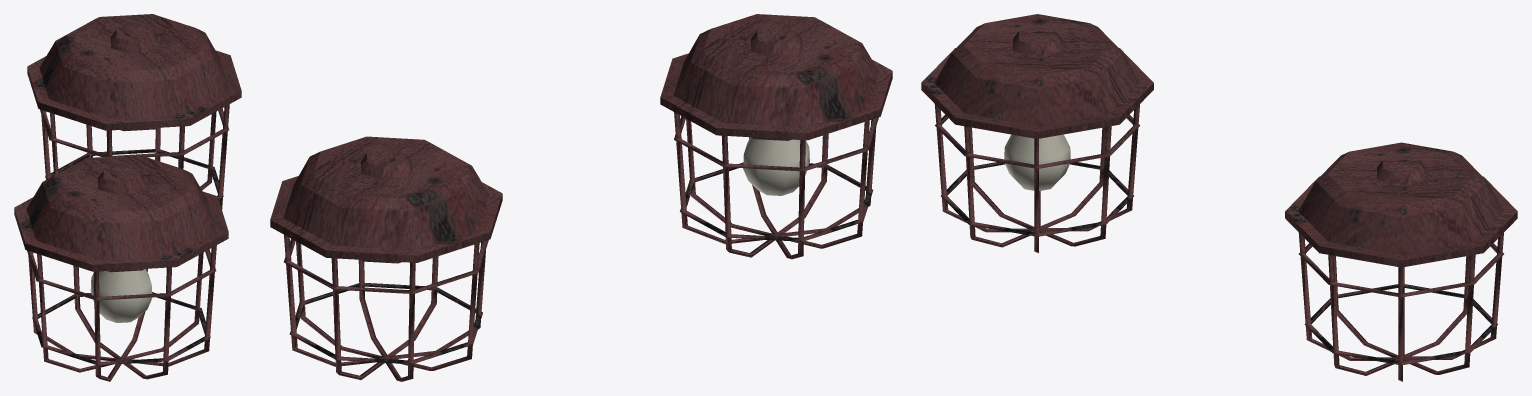
The model's file is Bulb.fbx.
3 views of the same model, side by side, from view 1: azimuth 30°, elevation 25°; view 2: azimuth 150°, elevation 25°; view 3: azimuth 270°, elevation 25° (orthographic). The views are drawn at different scales.
Visible parts, largest first — view 1: Group1, Group2; view 2: Group1, Group2; view 3: Group1, Group2.
Part boxes in pixels (box(x1,y1,x2,y2)): Group1: box(14, 155, 228, 381); Group2: box(27, 14, 241, 209); Group1: box(660, 14, 892, 259); Group2: box(270, 136, 502, 381); Group1: box(921, 14, 1153, 253); Group2: box(1285, 142, 1517, 381).
Bounding box in the file's own units: 534 × 295 × 695.
